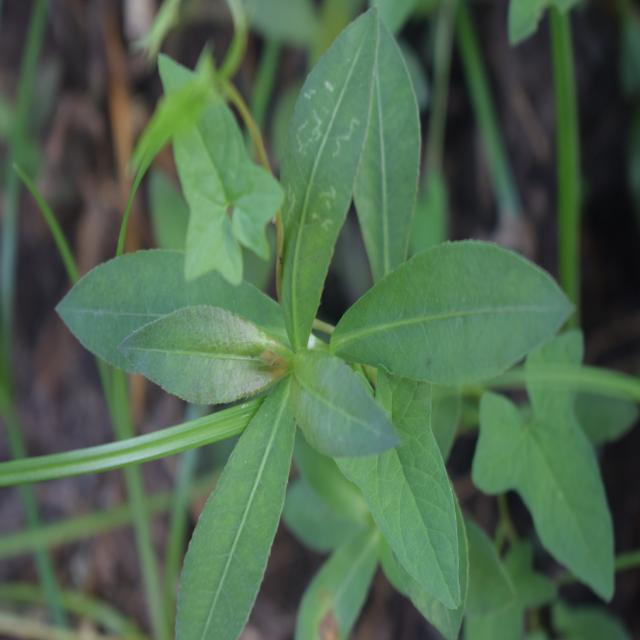Alligatorweed: (83, 43, 506, 598)
